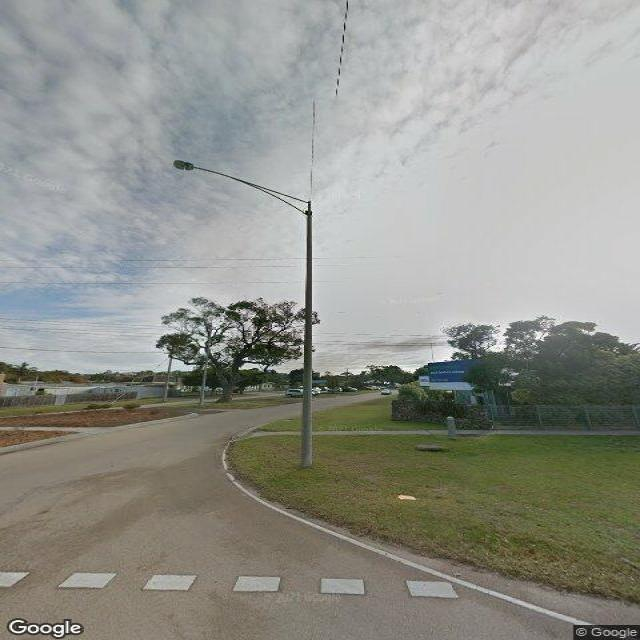steel-pole: (298, 201, 314, 468)
streetlight: (173, 161, 313, 215)
timber-pole: (198, 329, 212, 405), (164, 353, 172, 401)
